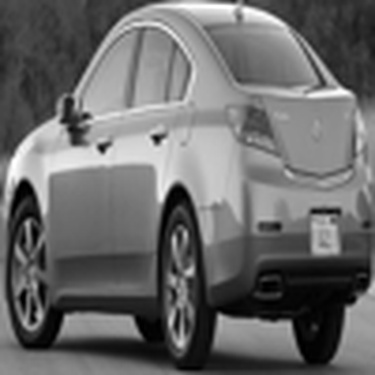car: (11, 5, 374, 328)
